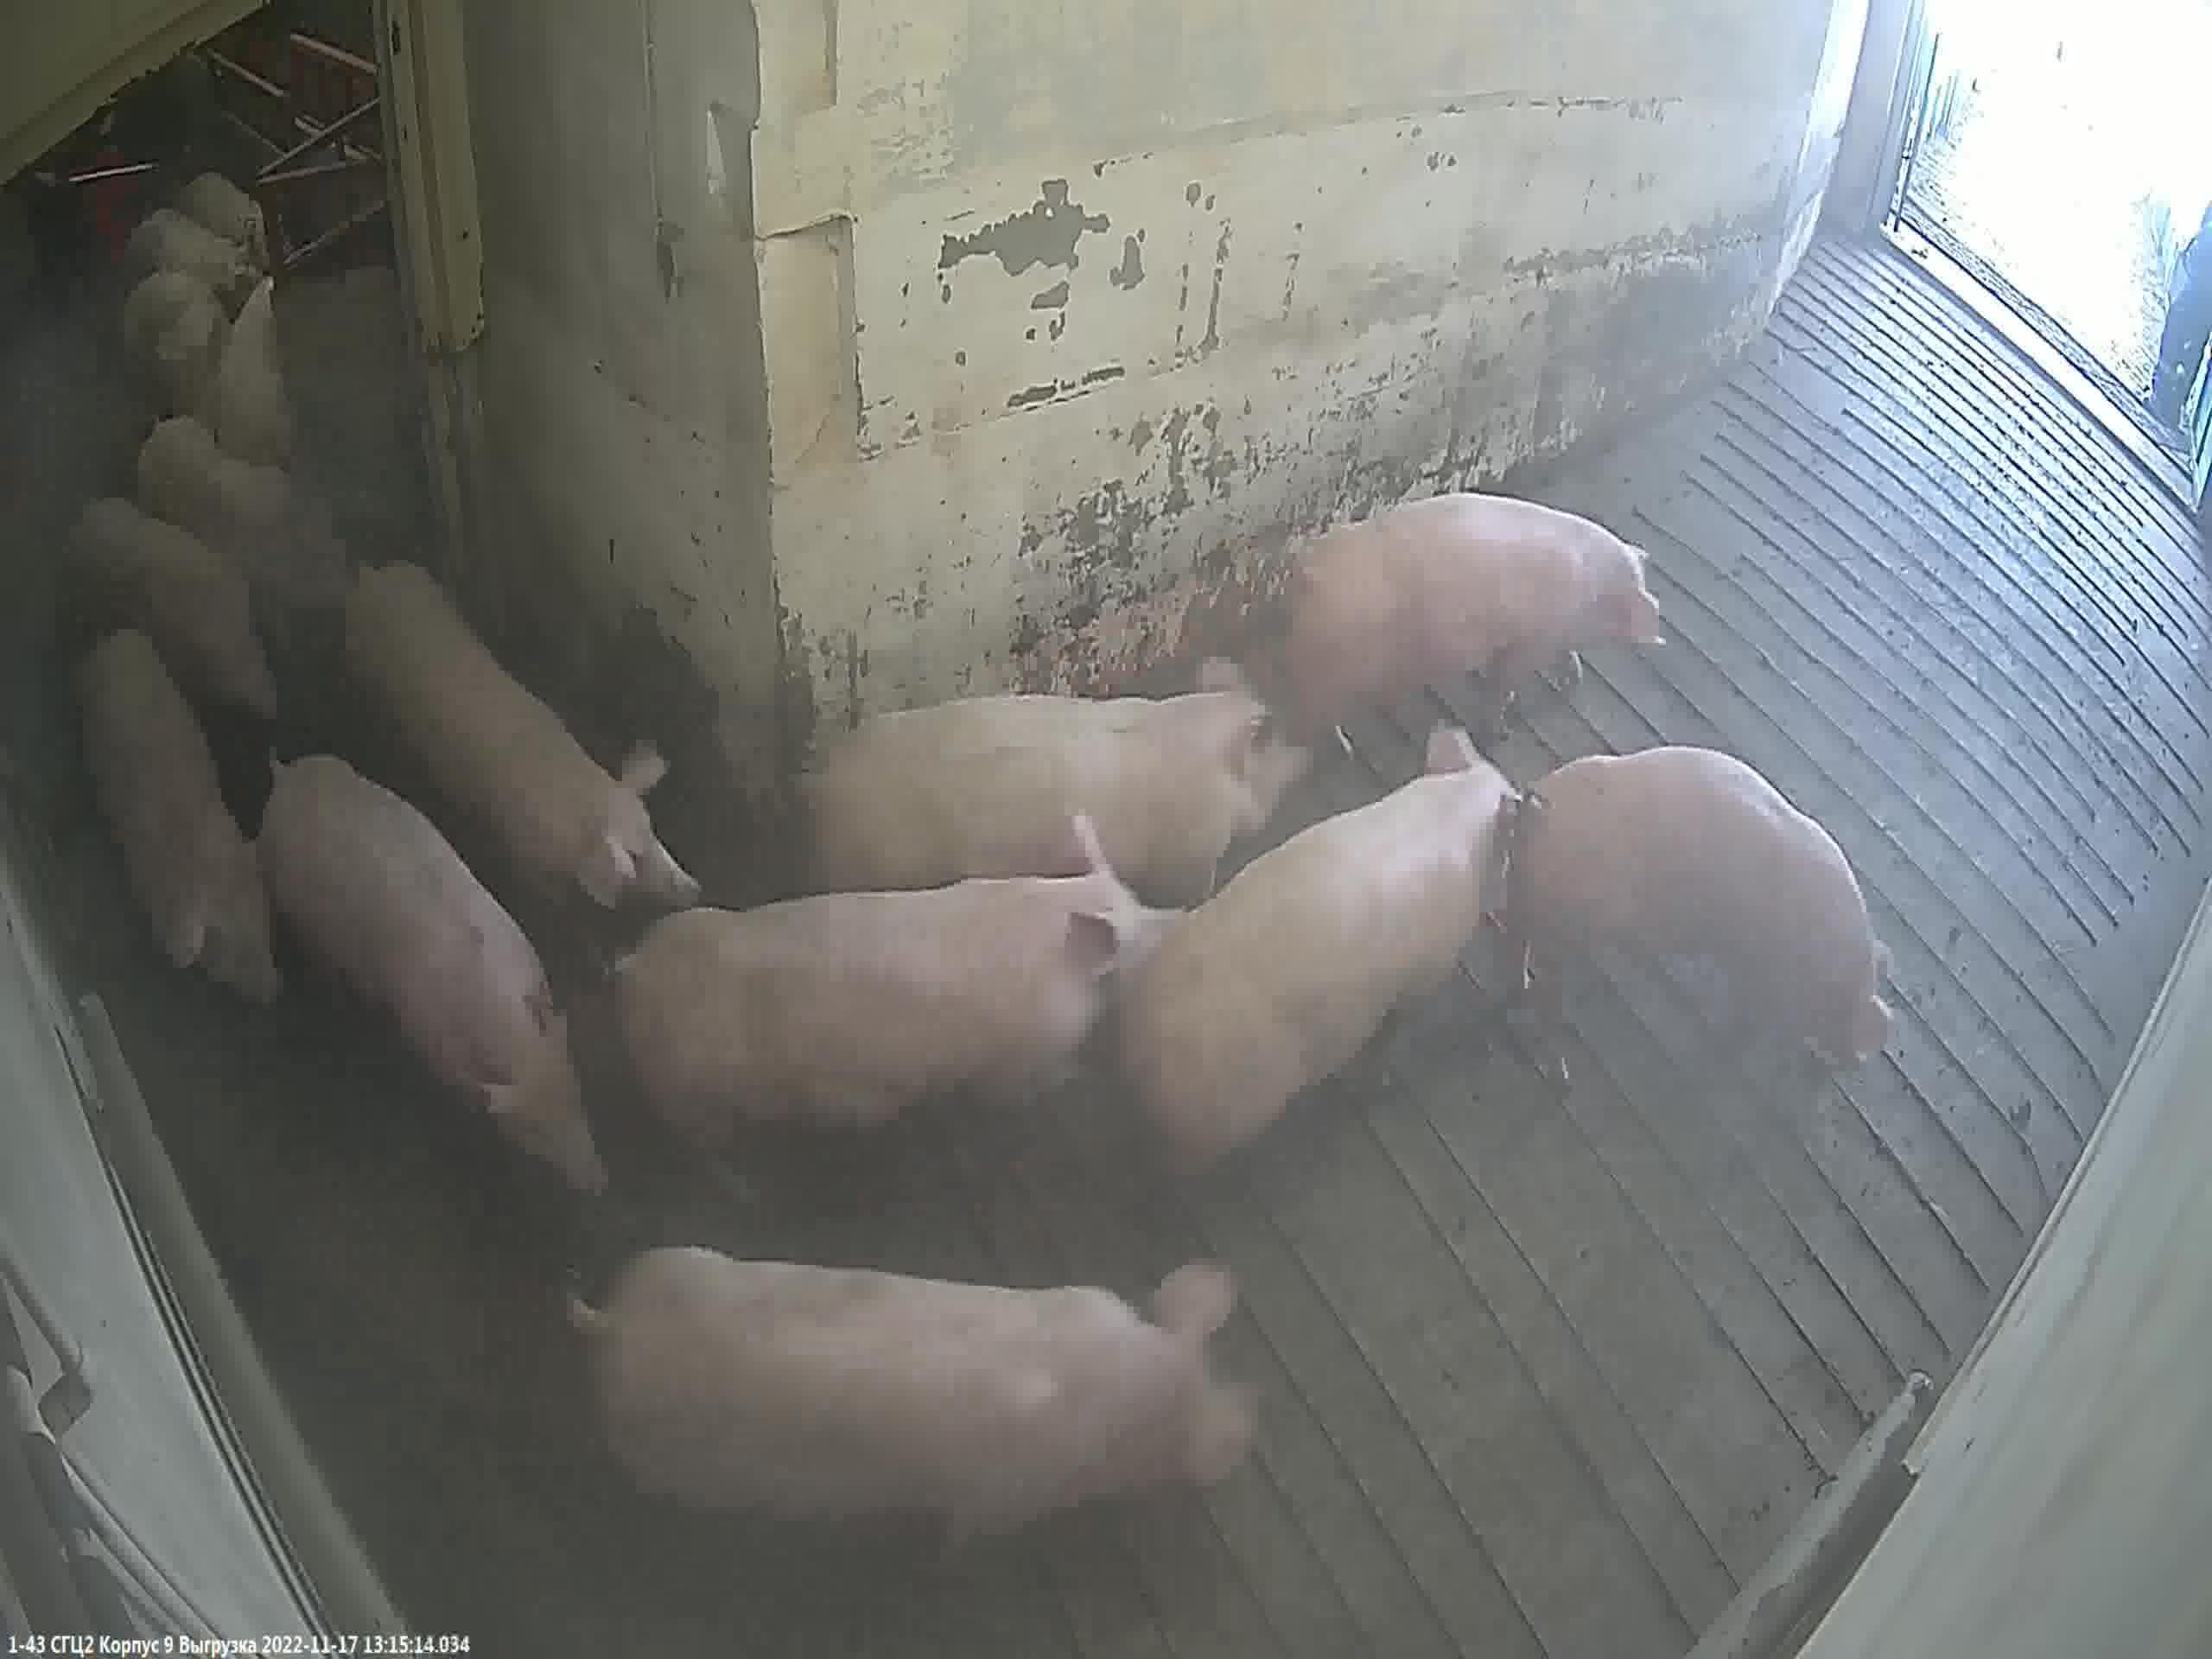Pigs: (563, 1246, 1258, 1557), (1108, 737, 1524, 1228), (616, 817, 1178, 1173), (260, 756, 606, 1202), (346, 563, 715, 952), (812, 665, 1294, 938), (1269, 499, 1665, 825), (1529, 747, 1888, 1058), (76, 631, 282, 1007), (71, 499, 276, 723)
